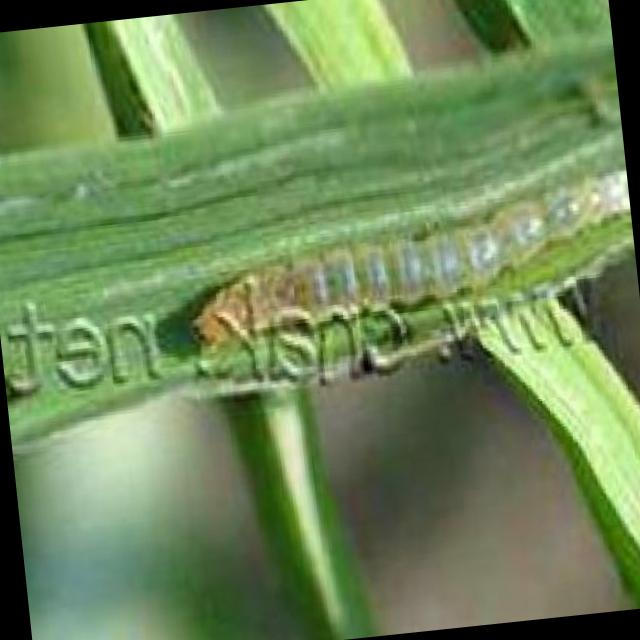leaf-folder: (88, 141, 632, 378)
